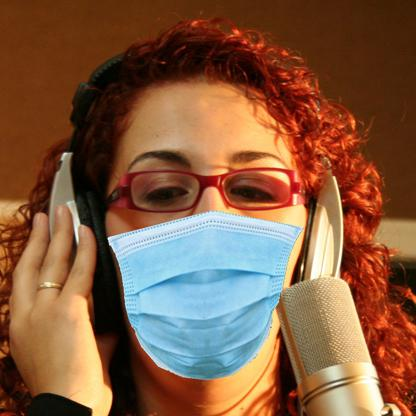mask: (103, 207, 304, 382)
